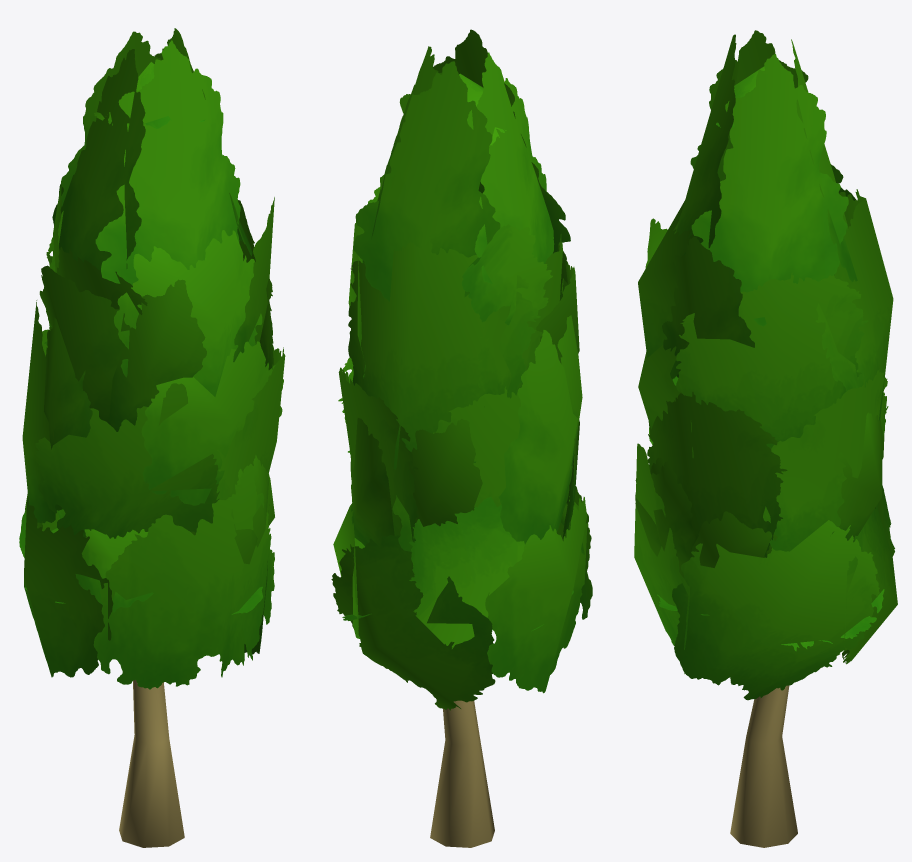
File: BirchTree_v3.fbx
3 renders of one model, left to right at view 1: azimuth 30°, elevation 25°; view 2: azimuth 150°, elevation 25°; view 3: azimuth 270°, elevation 25°, orthographic.
Parts seen in each view (by area): view 1: BirchTree_v4_Treetop_Leafs_polySurface3, BirchTree_v4, Treetop; view 2: BirchTree_v4_Treetop_Leafs_polySurface3, BirchTree_v4, Treetop; view 3: BirchTree_v4_Treetop_Leafs_polySurface3, BirchTree_v4, Treetop.
Part boxes in pixels (box(x1,y1,x2,y2)): BirchTree_v4_Treetop_Leafs_polySurface3: box(19, 28, 285, 689); BirchTree_v4: box(119, 735, 184, 847); Treetop: box(133, 680, 169, 744); BirchTree_v4_Treetop_Leafs_polySurface3: box(331, 29, 592, 710); BirchTree_v4: box(430, 737, 494, 847); Treetop: box(443, 700, 479, 745); BirchTree_v4_Treetop_Leafs_polySurface3: box(634, 30, 897, 700); BirchTree_v4: box(730, 737, 797, 847); Treetop: box(746, 685, 789, 743).
Bounding box in the file's own units: 12.8 × 40.95 × 12.31.
